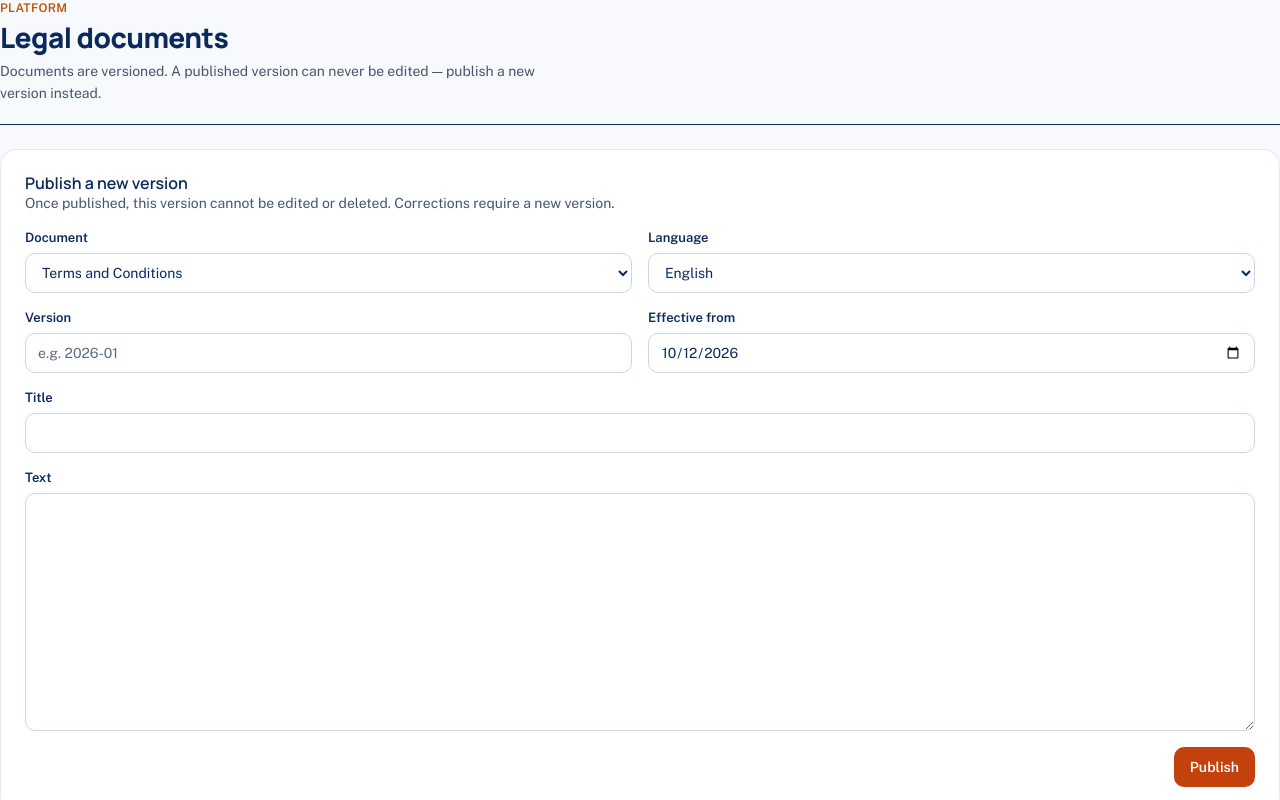
Test: privilege changes and terminal outcomes are confirmed › confirms publishing a legal document, because a published version is immutable
In the field labelled "Version": (328, 352) [25, 332, 632, 372], type "2026-10"
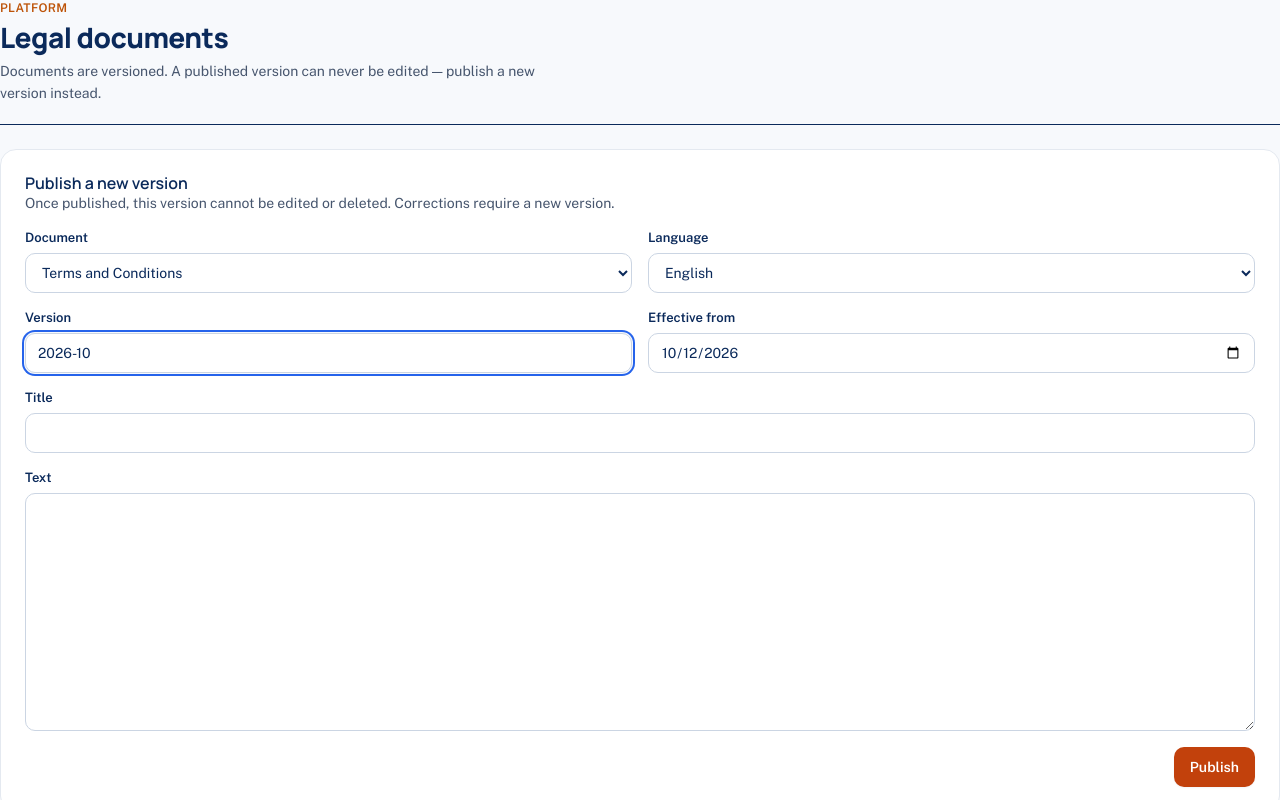
In the field labelled "Title": (640, 432) [25, 412, 1255, 452], type "Terms"
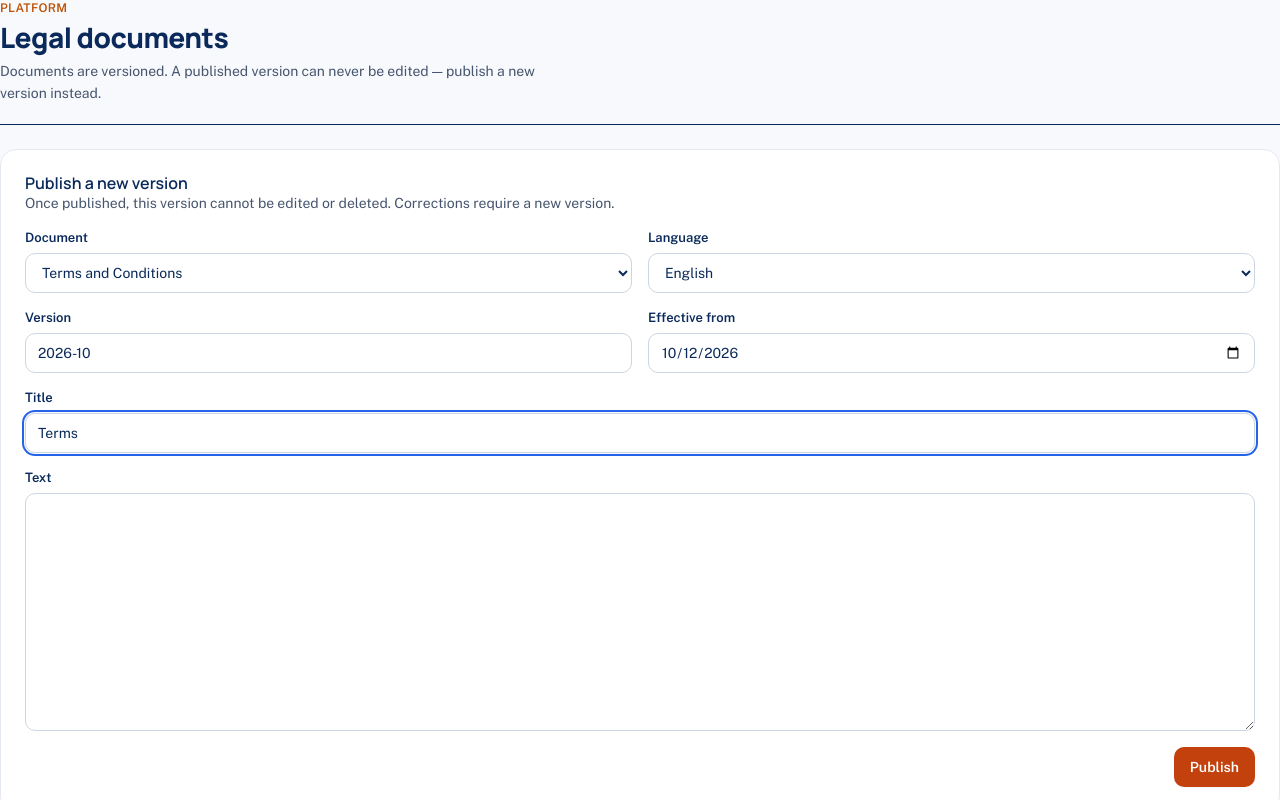
In the text box labelled "Text": (640, 612) [25, 492, 1255, 730], type "The terms."
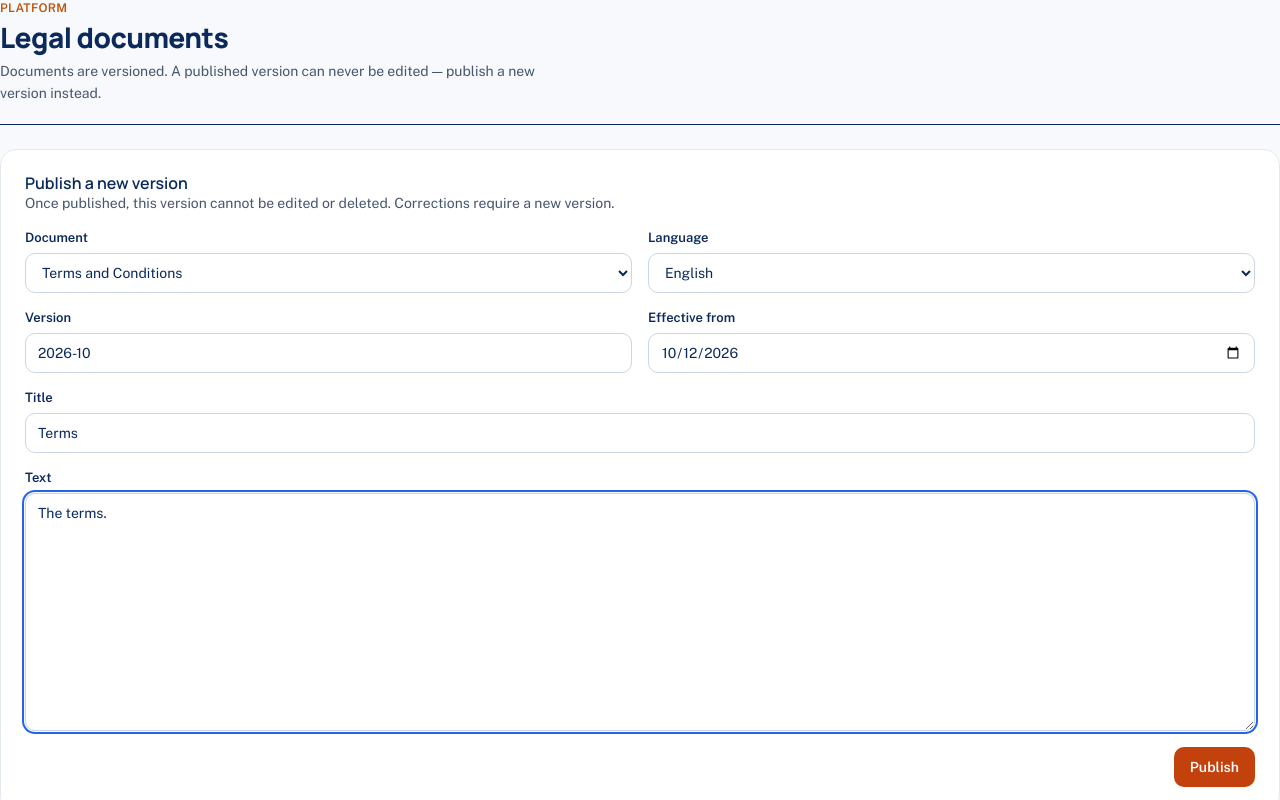
Click the button "Publish": (1214, 766) [1174, 746, 1255, 786]
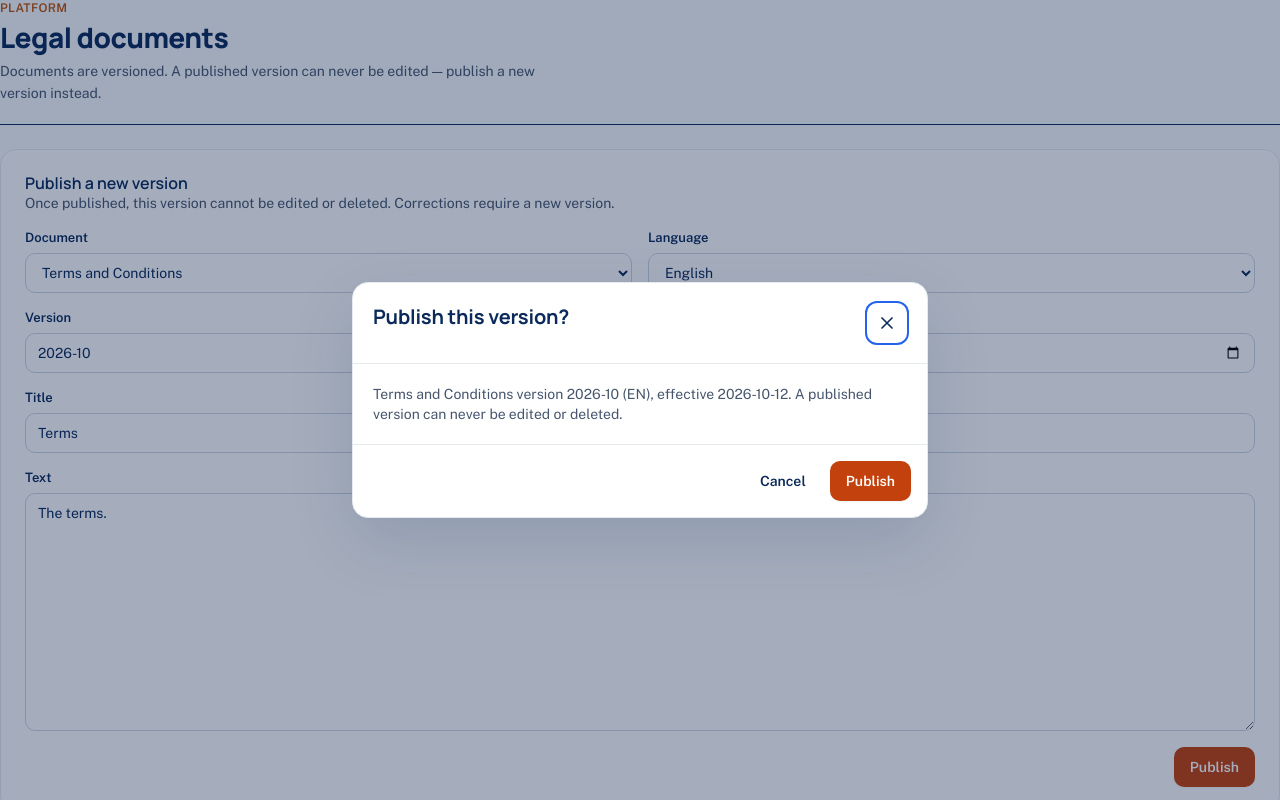
Expected: the dialog "Publish this version?" shows "can never be edited or deleted", [373, 386, 872, 422]
